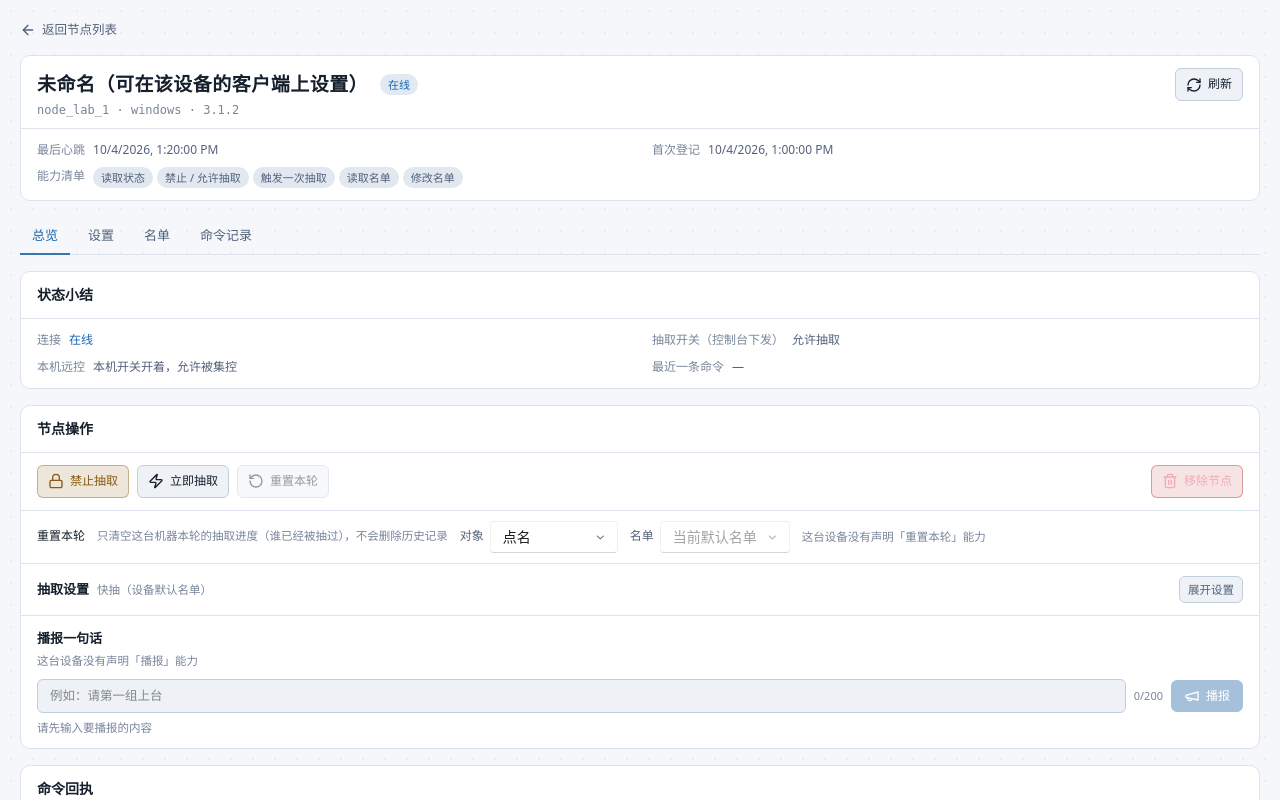
Test: 抽取设置的界面 › 展开后是「快抽」：说清它不传任何参数（旧控制台那条命令）
Click the button with test id "node-detail-draw-toggle" at x=1211, y=589, box [1179,576,1243,603]
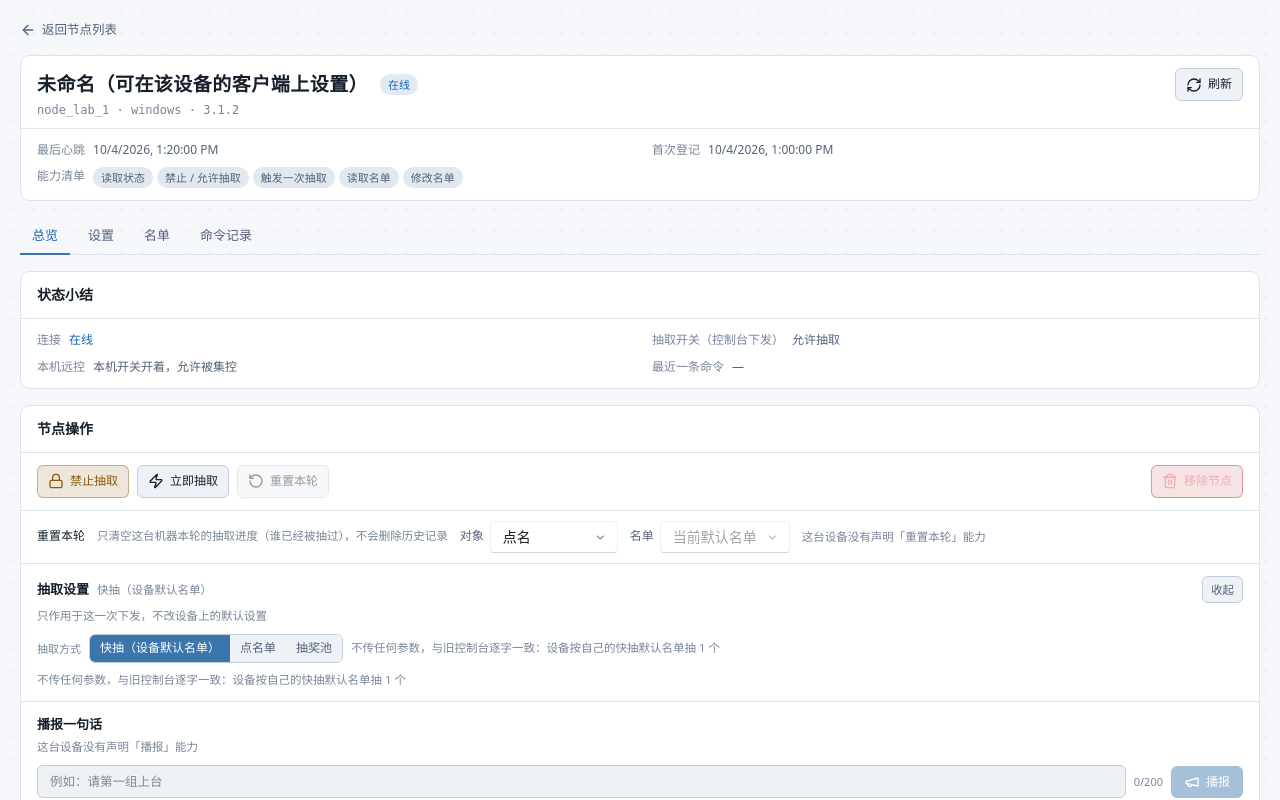
Now the button with test id "node-detail-draw-toggle" is expanded, box [1202,576,1243,603]
Now the text with test id "node-detail-draw-quick-note" shows "不传任何参数", box [37,672,406,687]
